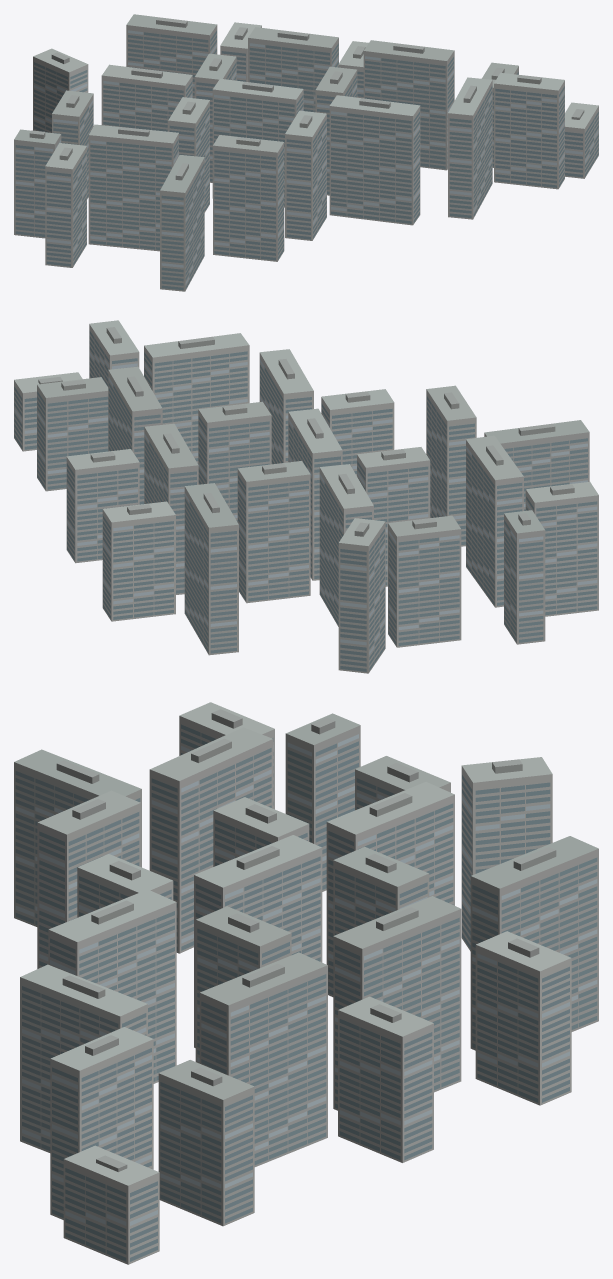
Rendered from apt-a15190705.glb.
3 renders of one model, top to bottom at view 1: azimuth 30°, elevation 25°; view 2: azimuth 150°, elevation 25°; view 3: azimuth 270°, elevation 25°, orthographic. The views are drawn at different scales.
Parts seen in each view (by area): view 1: apt-a15190705; view 2: apt-a15190705; view 3: apt-a15190705.
Boxes of the visible parts, left/top/right/bottom form: apt-a15190705: left=14, top=14, right=598, bottom=291; apt-a15190705: left=14, top=320, right=598, bottom=673; apt-a15190705: left=14, top=702, right=598, bottom=1264.
Size of the model in its own units: 316 by 65 by 192.
